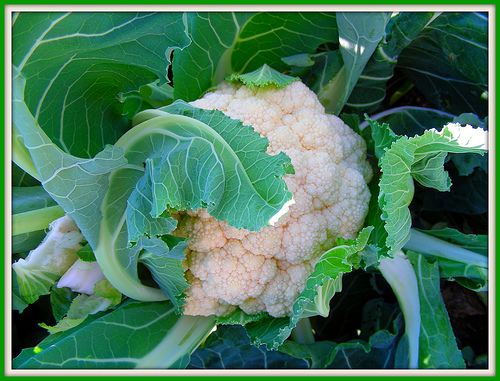cauliflower: (158, 75, 371, 319)
